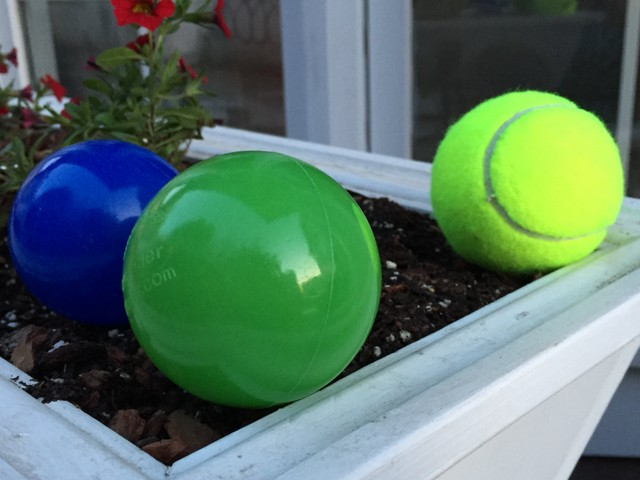ball: (10, 141, 180, 327)
